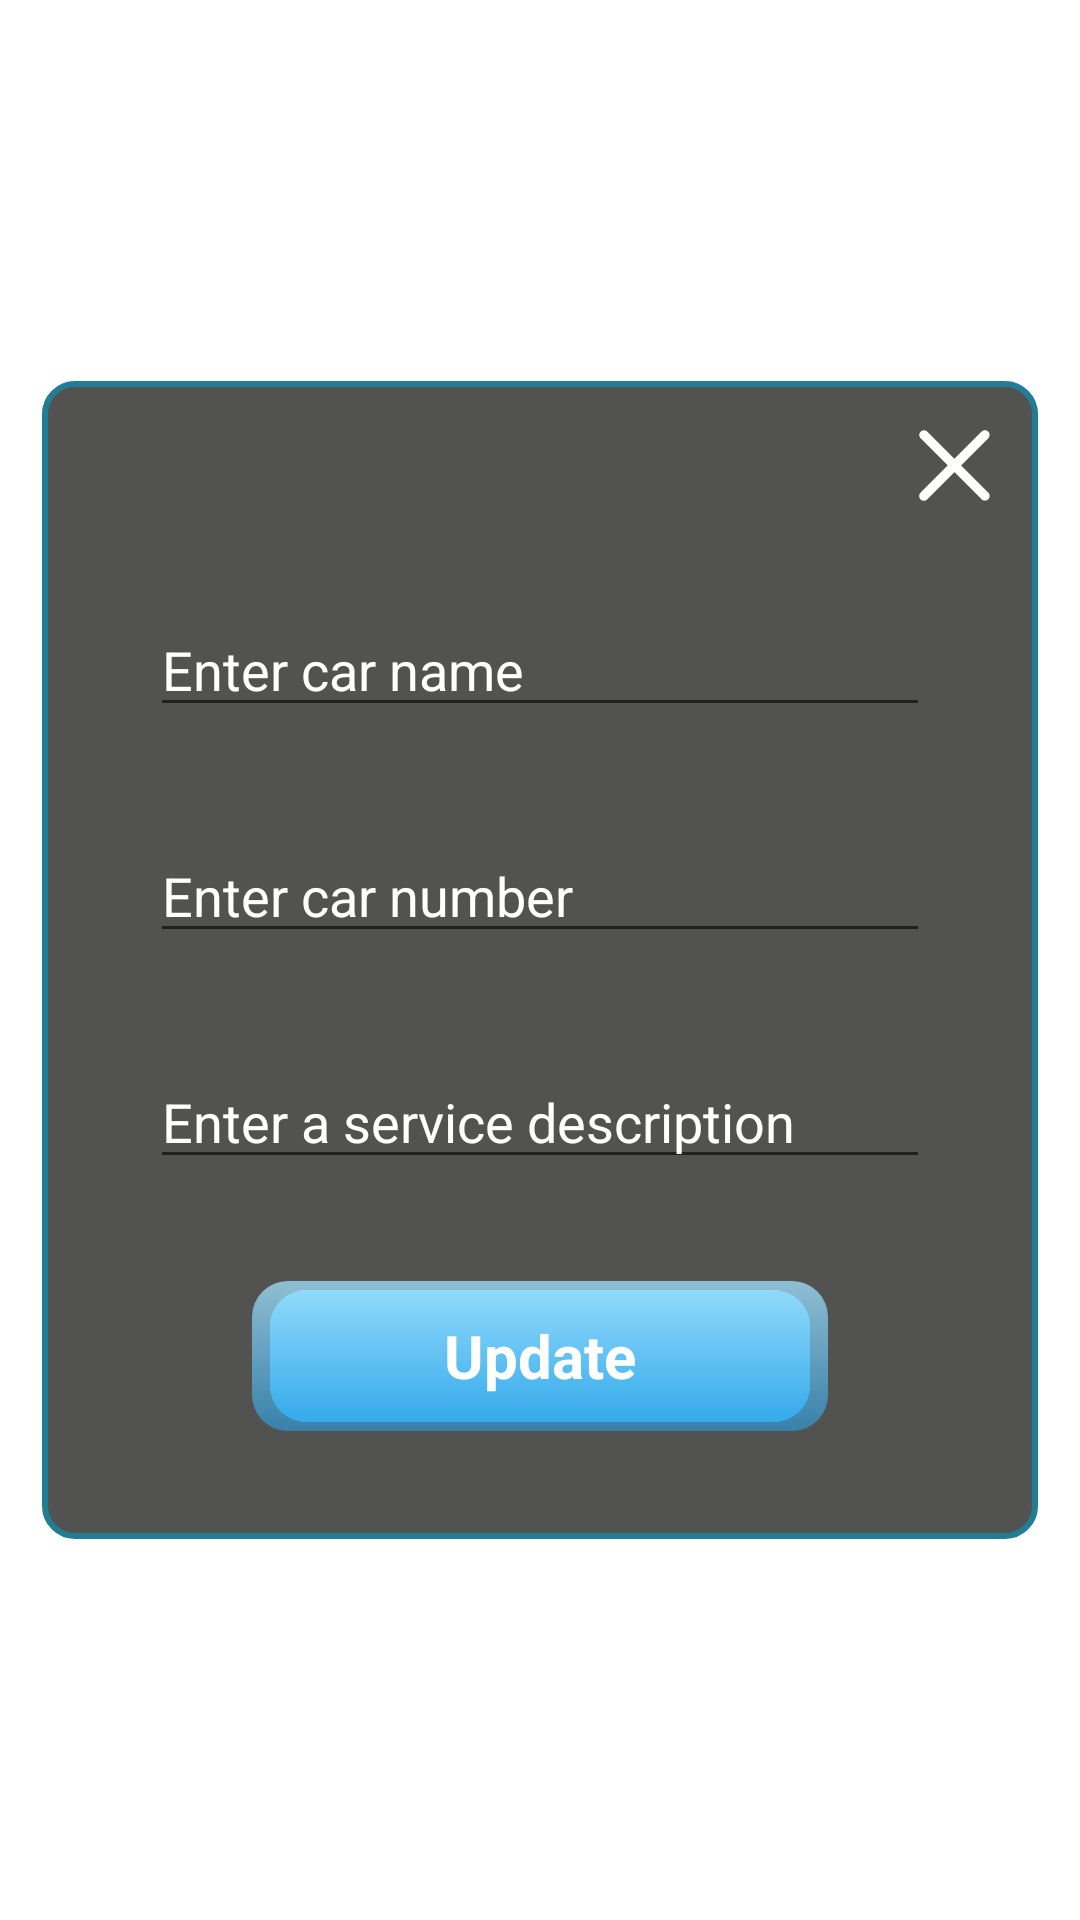

Locate icon controls on the screen. Image size 1080 × 1920, boxes as [x1,y1,x2,y2].
close: [919,430,990,501]
